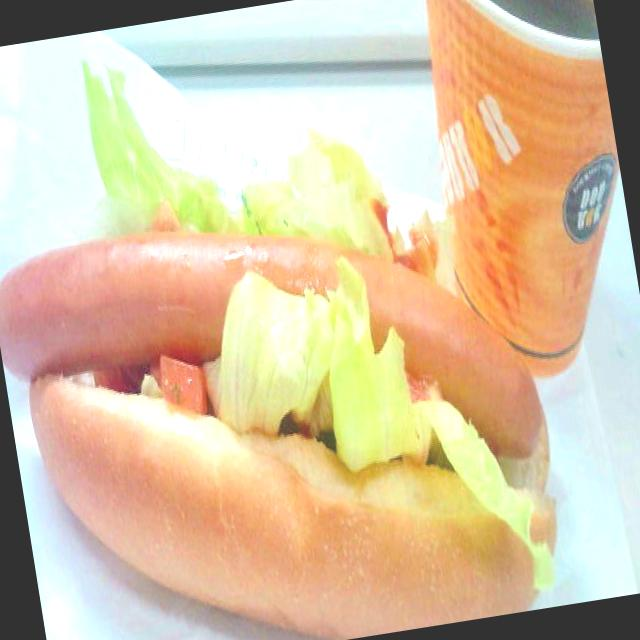Hot Dog: (0, 133, 577, 640)
